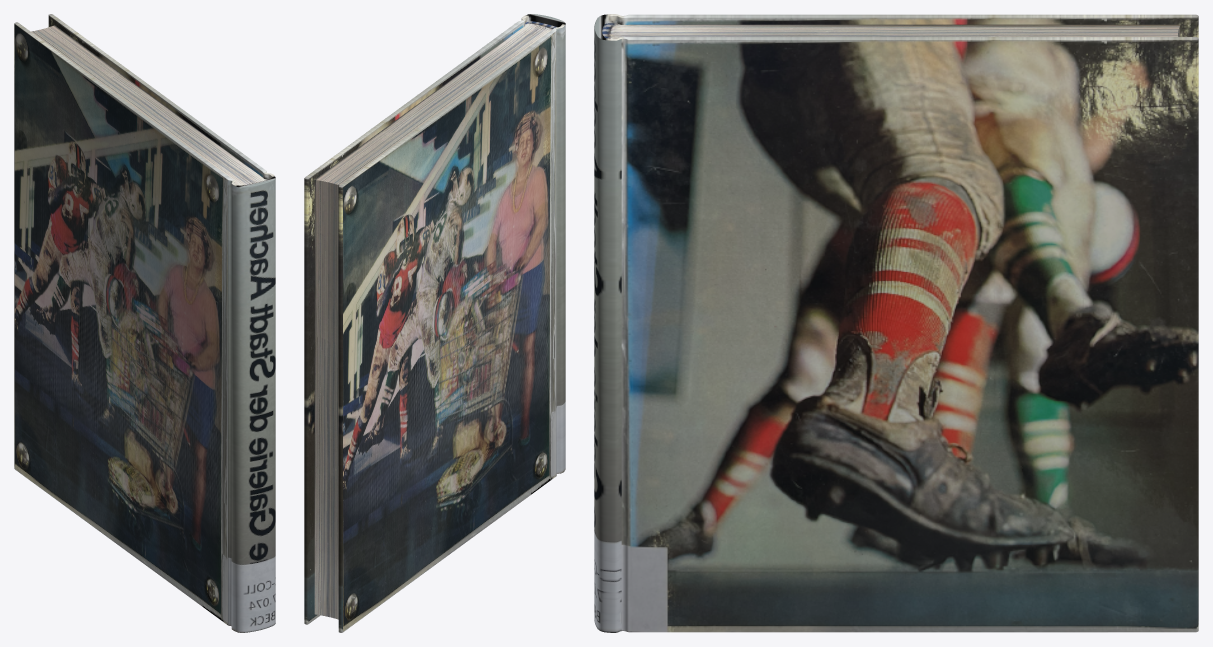
Rendered from 15_Becker_Wolfgang.glb.
3 views of the same model, side by side, from view 1: azimuth 30°, elevation 25°; view 2: azimuth 150°, elevation 25°; view 3: azimuth 270°, elevation 25° (orthographic). The views are drawn at different scales.
Visible parts, largest first — view 1: Object_42.003; view 2: Object_42.003; view 3: Object_42.003.
Part boxes in pixels (x1,y1,x2,y2): Object_42.003: (14, 14, 275, 632); Object_42.003: (304, 14, 565, 632); Object_42.003: (594, 14, 1198, 632).
Size of the model in its own units: 0.0218 by 0.2274 by 0.21.
Materials: 2 (2 with a texture image).
